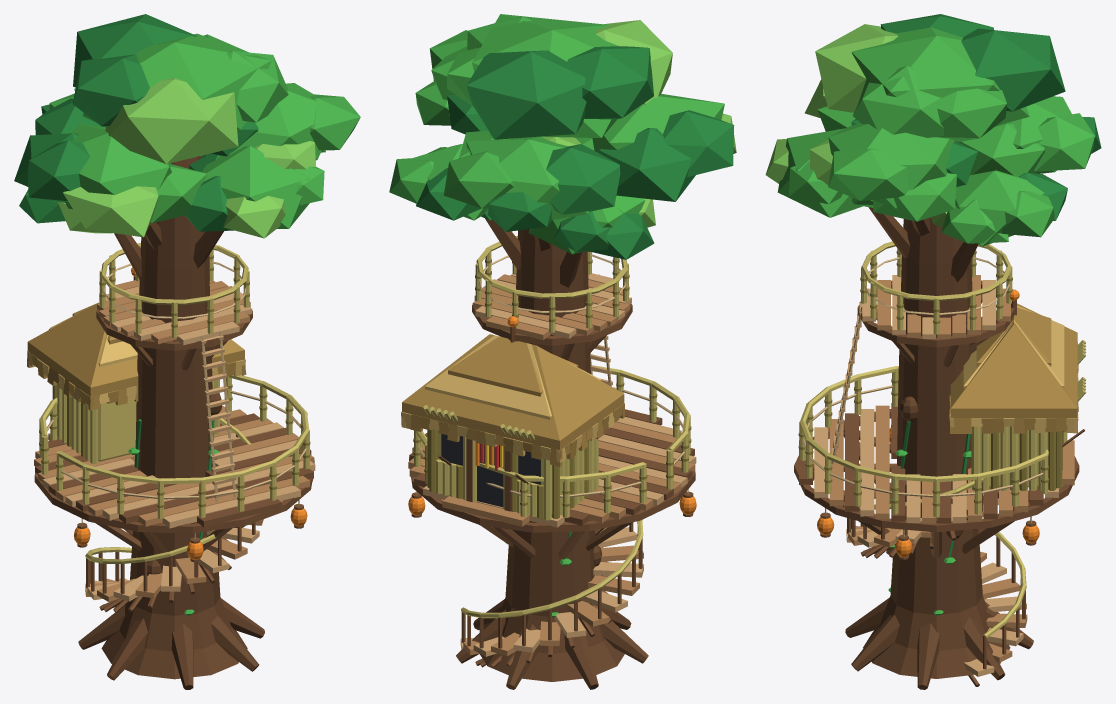
File: TreeHouse.fbx
3 views of the same model, side by side, from view 1: azimuth 30°, elevation 25°; view 2: azimuth 150°, elevation 25°; view 3: azimuth 270°, elevation 25° (orthographic). The views are drawn at different scales.
Visible parts, largest first — view 1: TreeHouse_Bark, TreeHouse_Leaf, TreeHouse_LeafDark, TreeHouse_LeafLight, TreeHouse_Bamboo, TreeHouse_WoodDark, TreeHouse_WoodLight, TreeHouse_Plank, TreeHouse_ThatchDark, TreeHouse_Rope, TreeHouse_BambooDark, TreeHouse_Thatch (+1 smaller); view 2: TreeHouse_LeafDark, TreeHouse_Leaf, TreeHouse_Bark, TreeHouse_ThatchDark, TreeHouse_Bamboo, TreeHouse_WoodDark, TreeHouse_Plank, TreeHouse_WoodLight, TreeHouse_Thatch, TreeHouse_BambooDark, TreeHouse_LeafLight, TreeHouse_Charcoal (+2 smaller); view 3: TreeHouse_Leaf, TreeHouse_Bark, TreeHouse_Bamboo, TreeHouse_WoodDark, TreeHouse_ThatchDark, TreeHouse_LeafDark, TreeHouse_Plank, TreeHouse_WoodLight, TreeHouse_LeafLight, TreeHouse_BambooDark, TreeHouse_Thatch, TreeHouse_Rope (+1 smaller).
Boxes of the visible parts, left/top/right/bottom form: TreeHouse_Bark: left=78, top=156, right=264, bottom=689; TreeHouse_Leaf: left=49, top=33, right=360, bottom=615; TreeHouse_LeafDark: left=14, top=14, right=258, bottom=539; TreeHouse_LeafLight: left=58, top=78, right=315, bottom=238; TreeHouse_Bamboo: left=39, top=243, right=309, bottom=563; TreeHouse_WoodDark: left=34, top=276, right=314, bottom=612; TreeHouse_WoodLight: left=42, top=286, right=315, bottom=601; TreeHouse_Plank: left=34, top=280, right=314, bottom=601; TreeHouse_ThatchDark: left=27, top=302, right=246, bottom=410; TreeHouse_Rope: left=46, top=261, right=306, bottom=539; TreeHouse_BambooDark: left=39, top=255, right=310, bottom=507; TreeHouse_Thatch: left=27, top=313, right=245, bottom=403; TreeHouse_LeafDark: left=416, top=46, right=734, bottom=558; TreeHouse_Leaf: left=389, top=14, right=724, bottom=617; TreeHouse_Bark: left=456, top=218, right=648, bottom=689; TreeHouse_ThatchDark: left=402, top=334, right=624, bottom=466; TreeHouse_Bamboo: left=414, top=235, right=690, bottom=618; TreeHouse_WoodDark: left=409, top=301, right=695, bottom=667; TreeHouse_Plank: left=408, top=274, right=695, bottom=656; TreeHouse_WoodLight: left=423, top=273, right=696, bottom=656; TreeHouse_Thatch: left=401, top=335, right=614, bottom=462; TreeHouse_BambooDark: left=413, top=251, right=691, bottom=518; TreeHouse_LeafLight: left=541, top=20, right=736, bottom=227; TreeHouse_Charcoal: left=441, top=434, right=540, bottom=507; TreeHouse_Leaf: left=777, top=27, right=1094, bottom=615; TreeHouse_Bark: left=845, top=207, right=1033, bottom=689; TreeHouse_Bamboo: left=799, top=241, right=1086, bottom=638; TreeHouse_WoodDark: left=794, top=280, right=1084, bottom=686; TreeHouse_ThatchDark: left=949, top=303, right=1078, bottom=433; TreeHouse_LeafDark: left=832, top=14, right=1101, bottom=557; TreeHouse_Plank: left=829, top=275, right=1074, bottom=662; TreeHouse_WoodLight: left=814, top=275, right=1058, bottom=676; TreeHouse_LeafLight: left=765, top=24, right=947, bottom=227; TreeHouse_BambooDark: left=798, top=251, right=1066, bottom=506; TreeHouse_Thatch: left=949, top=305, right=1078, bottom=433; TreeHouse_Rope: left=802, top=257, right=1043, bottom=536.
Size of the model in its own units: 30.9 by 59.91 by 29.11.
